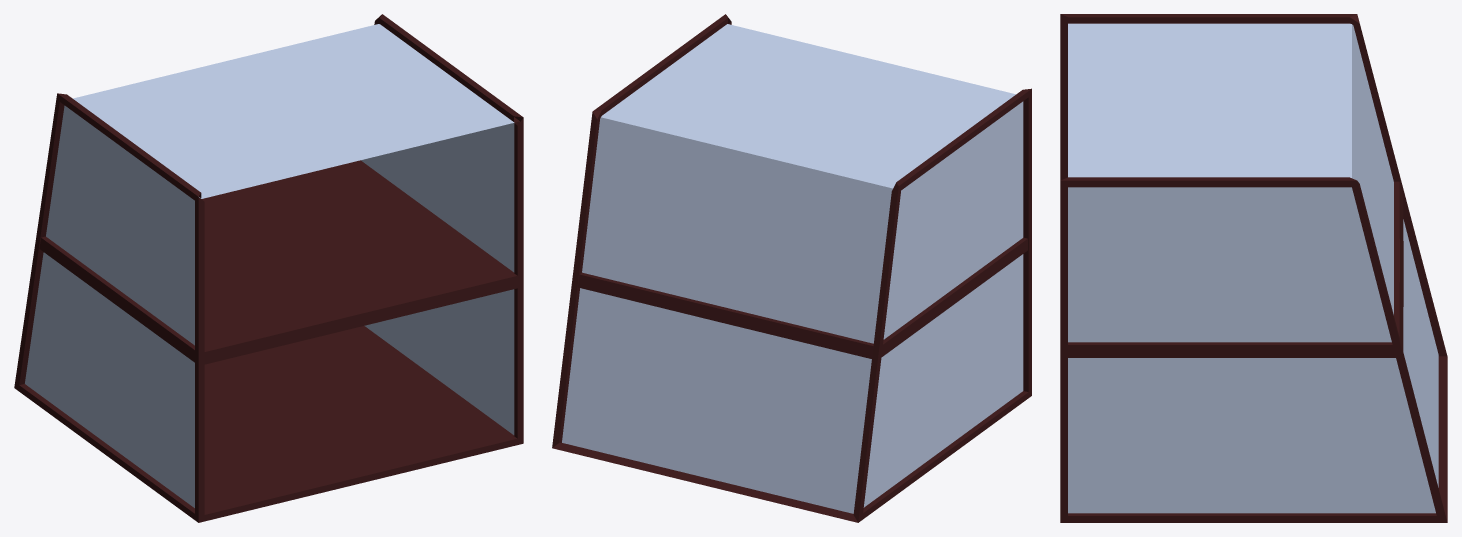
The model's file is VitrineSeparePatisserie.fbx.
The picture shows the model from 3 angles, left to right: view 1: azimuth 30°, elevation 25°; view 2: azimuth 150°, elevation 25°; view 3: azimuth 270°, elevation 25°; orthographic projection. The views are drawn at different scales.
Parts seen in each view (by area): view 1: VitrinePatisserie, ArmatueVitrine; view 2: VitrinePatisserie, ArmatueVitrine; view 3: VitrinePatisserie, ArmatueVitrine.
Boxes of the visible parts, bbox=[...] form: VitrinePatisserie: bbox=[25, 24, 514, 507]; ArmatueVitrine: bbox=[14, 14, 523, 522]; VitrinePatisserie: bbox=[562, 24, 1023, 513]; ArmatueVitrine: bbox=[552, 14, 1031, 522]; VitrinePatisserie: bbox=[1068, 23, 1438, 513]; ArmatueVitrine: bbox=[1060, 14, 1447, 522].
Bounding box in the file's own units: 39.67 × 38.02 × 38.95.
